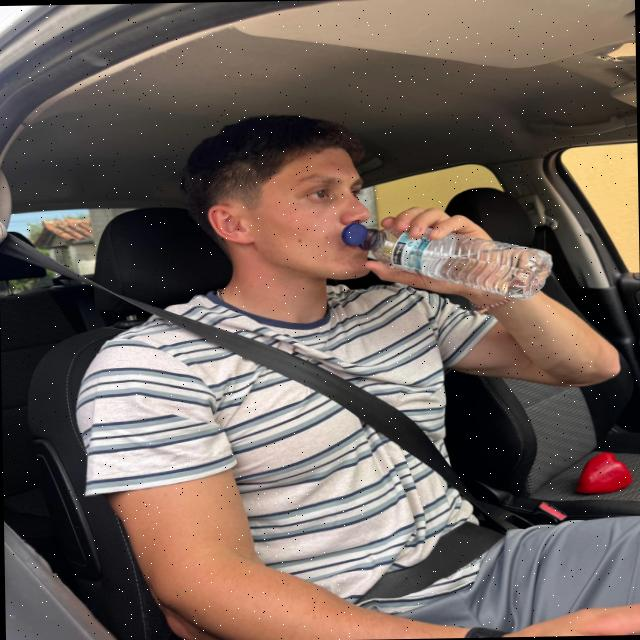Drinking: (336, 216, 556, 306)
Seatbelt: (6, 208, 520, 546)
